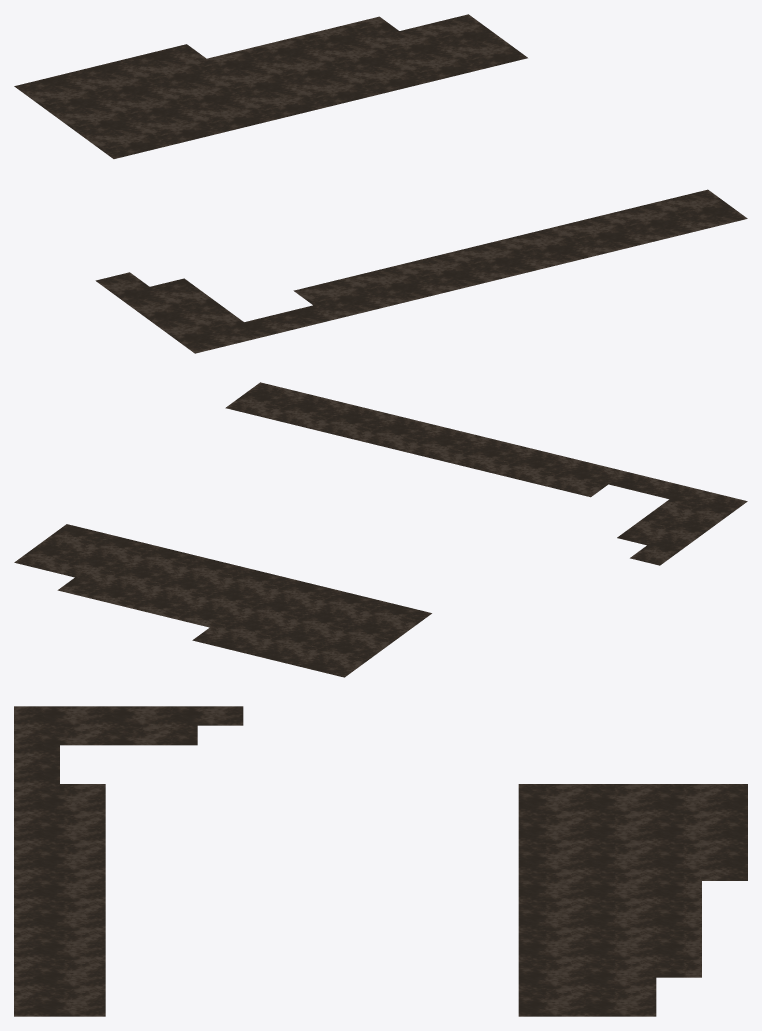
Rendered from floor_0_-5.glb.
3 renders of one model, top to bottom at view 1: azimuth 30°, elevation 25°; view 2: azimuth 150°, elevation 25°; view 3: azimuth 270°, elevation 25°, orthographic. The views are drawn at different scales.
Visible parts, largest first — view 1: floor_0_-5; view 2: floor_0_-5; view 3: floor_0_-5.
Boxes of the visible parts, x1,y1,x2,y2 form: floor_0_-5: (14,14,747,353); floor_0_-5: (14,382,747,677); floor_0_-5: (14,706,747,1016).
Size of the model in its own units: 64 by 0 by 64.
Materials: 1 (1 with a texture image).
